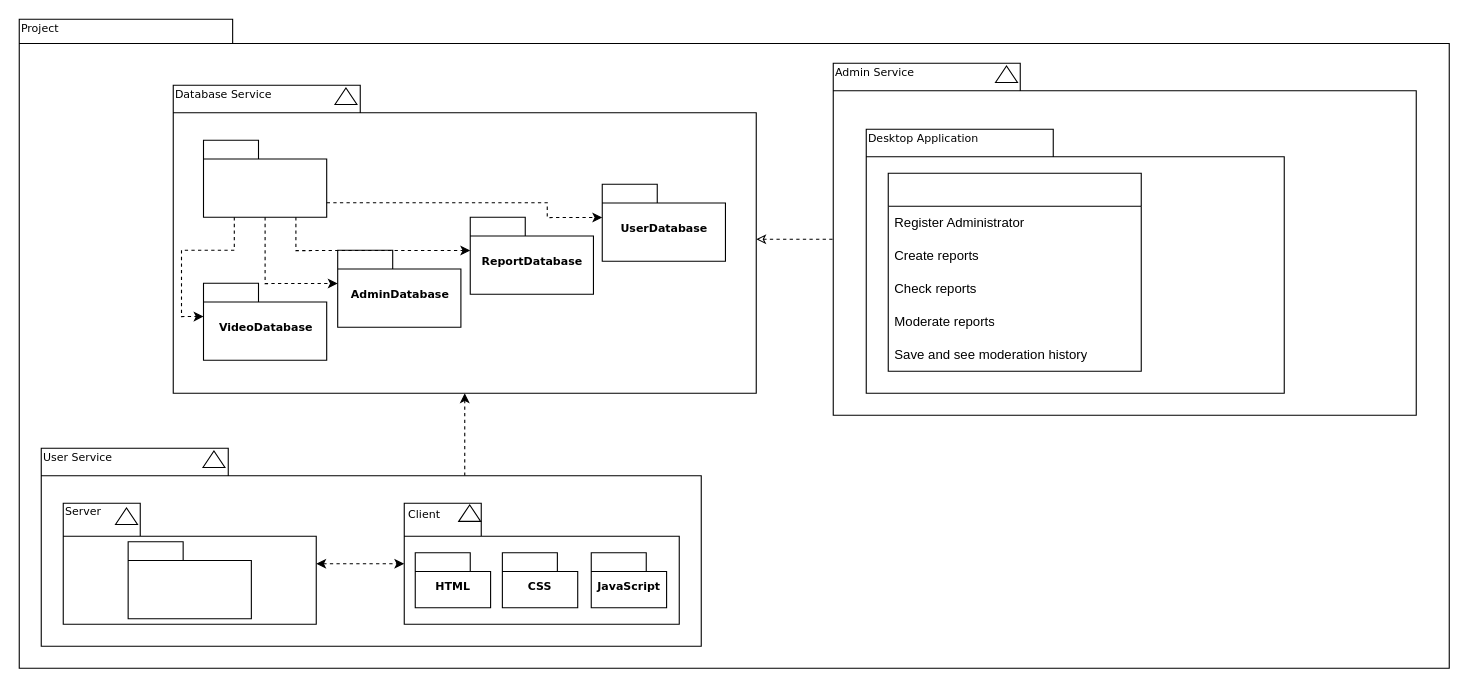
Image size: 1469x688. Some labels were removed from this diagram. Each missing label, with the box of its shape:
C# Server: (127, 541, 251, 619)
DatabaseRestApi: (202, 139, 327, 217)
Functionality: (887, 172, 1141, 371)
